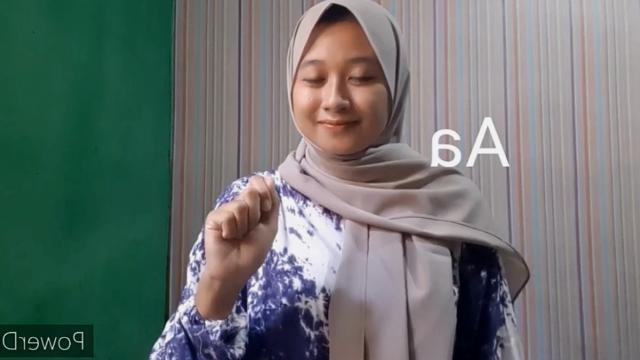A: (200, 168, 280, 288)
